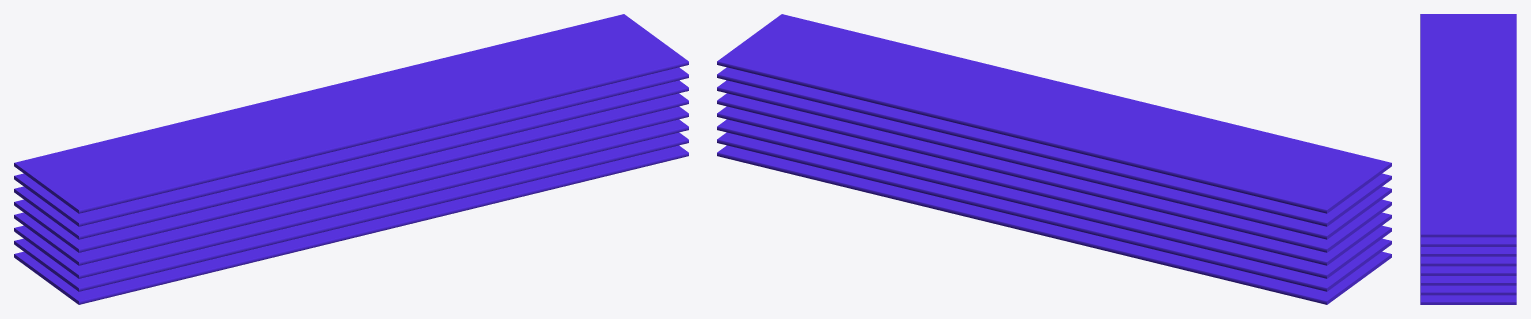
File: Exxotest_Export_Turbo_EGR_Radiateur_Plaques.FBX
3 views of the same model, side by side, from view 1: azimuth 30°, elevation 25°; view 2: azimuth 150°, elevation 25°; view 3: azimuth 270°, elevation 25° (orthographic). The views are drawn at different scales.
Parts seen in each view (by area): view 1: Mesh_EGR_Radiateur_Plaques; view 2: Mesh_EGR_Radiateur_Plaques; view 3: Mesh_EGR_Radiateur_Plaques.
Boxes of the visible parts, x1=… form: Mesh_EGR_Radiateur_Plaques: x1=14, y1=14, x2=688, y2=304; Mesh_EGR_Radiateur_Plaques: x1=717, y1=14, x2=1391, y2=304; Mesh_EGR_Radiateur_Plaques: x1=1420, y1=14, x2=1516, y2=304.
Size of the model in its own units: 880 by 131 by 162.
